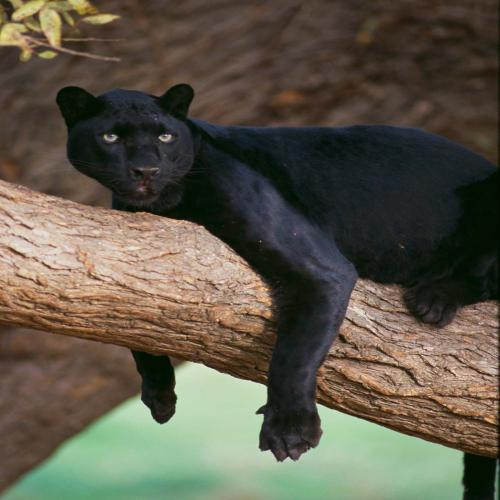panther-endangered: (54, 82, 496, 491)
